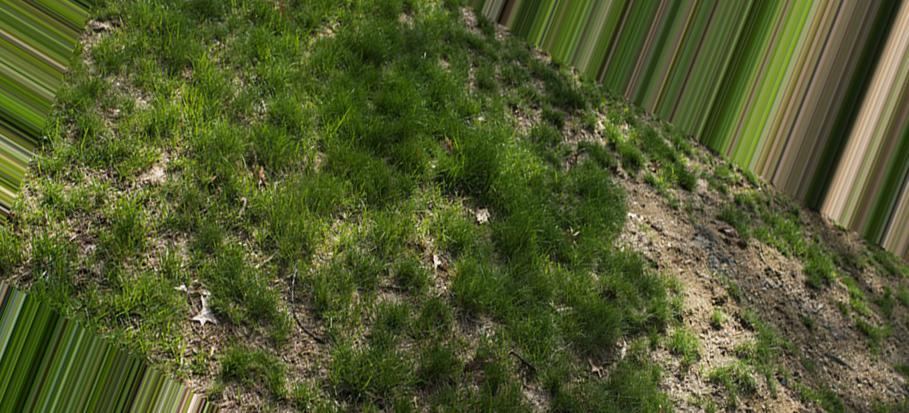patch: (641, 191, 746, 273), (701, 275, 778, 336)
